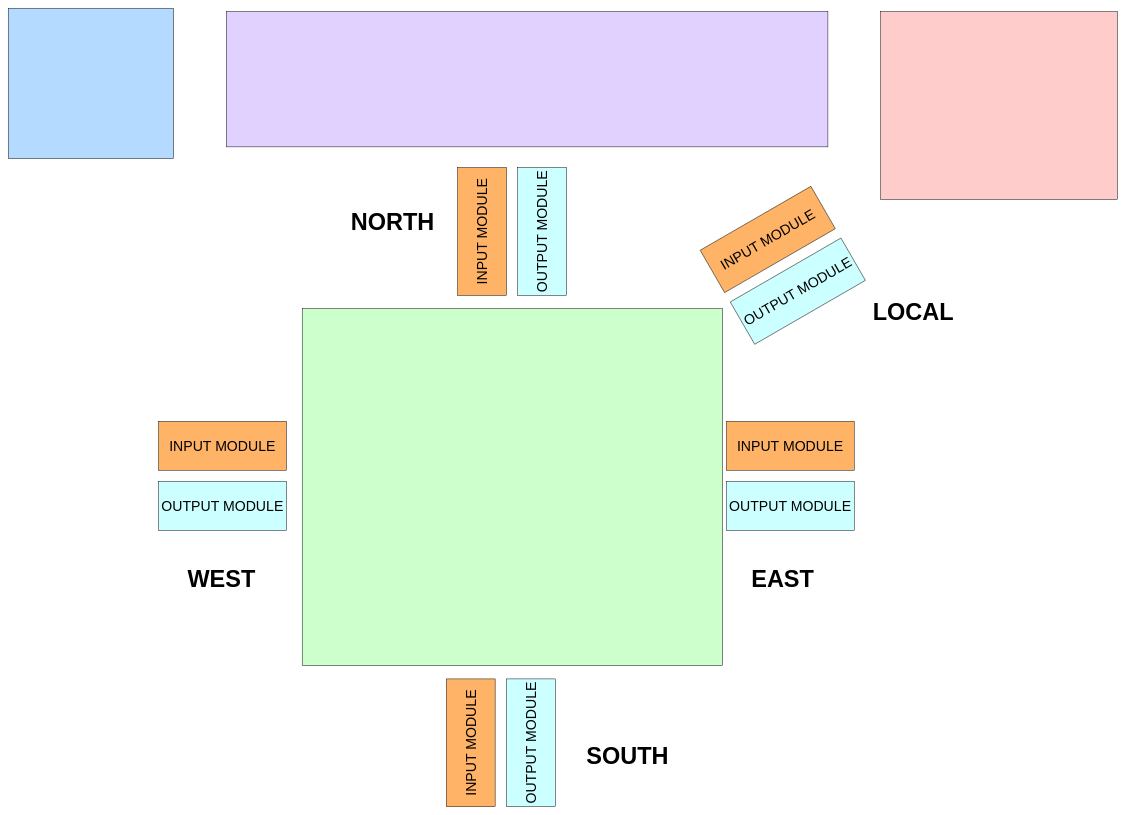
This 1126x815 diagram has some shape labels left out. The centre of each missing label's shape, as x and y in pixels:
"CORE" goes at (x=91, y=83).
"NI" goes at (x=527, y=79).
"PKT_PROC" goes at (x=998, y=105).
"ROUTER" goes at (x=512, y=487).
